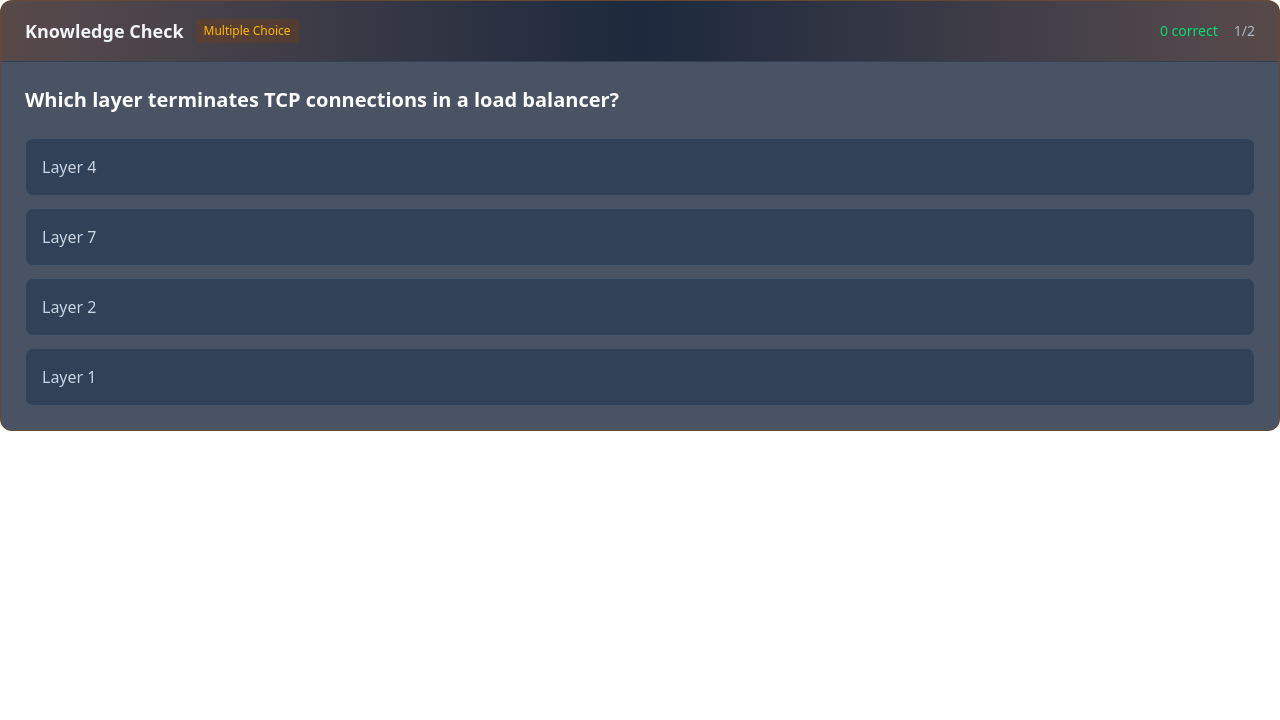
Quiz › multiple choice › confirms a correct answer with sound and explanation
This screenshot has width=1280, height=720.
Click the radio button with aria-label "Option 2: Layer 7".
click(69, 237)  # box [25,208,1255,266]
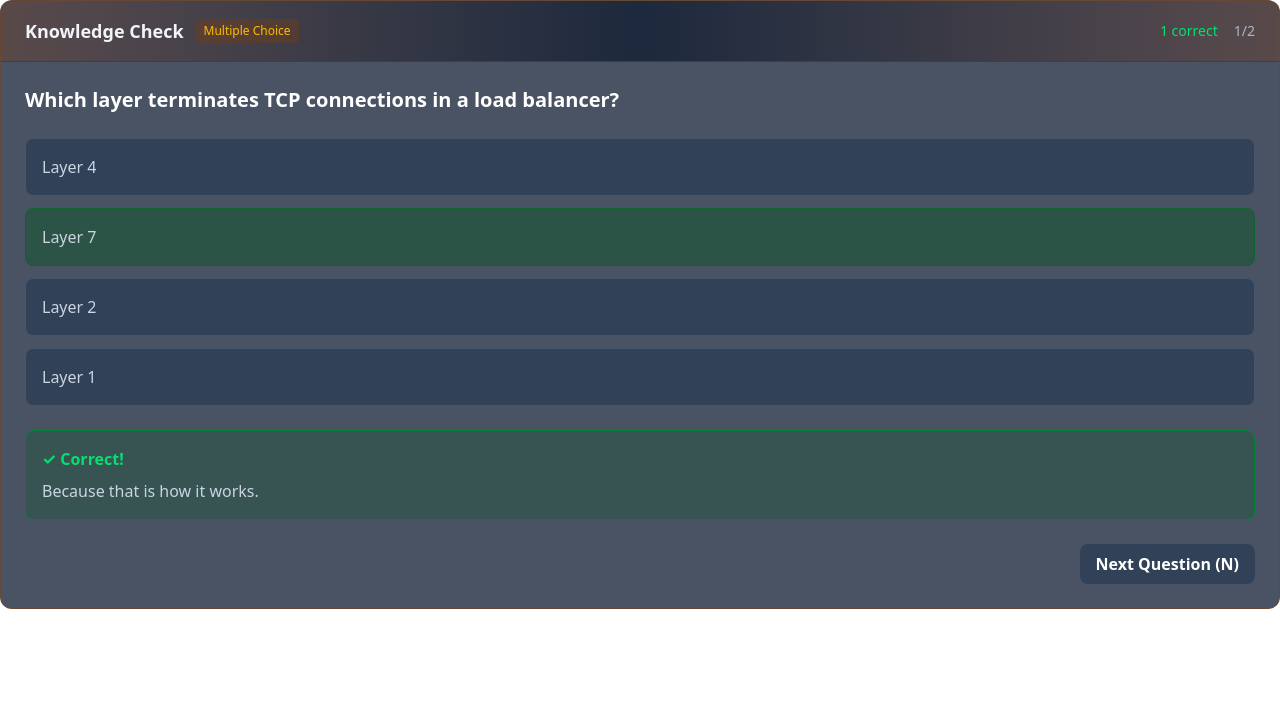
Now the text "✓ Correct!" is shown, box [42,448,124,470]
Now the text "1 correct" is shown, box [1160,21,1218,41]
Now the text "Because that is how it works." is shown, box [42,480,259,502]
